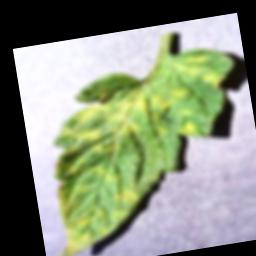Leaf_Mold: (32, 65, 193, 256), (169, 49, 229, 95), (175, 118, 201, 139), (169, 85, 192, 102)
